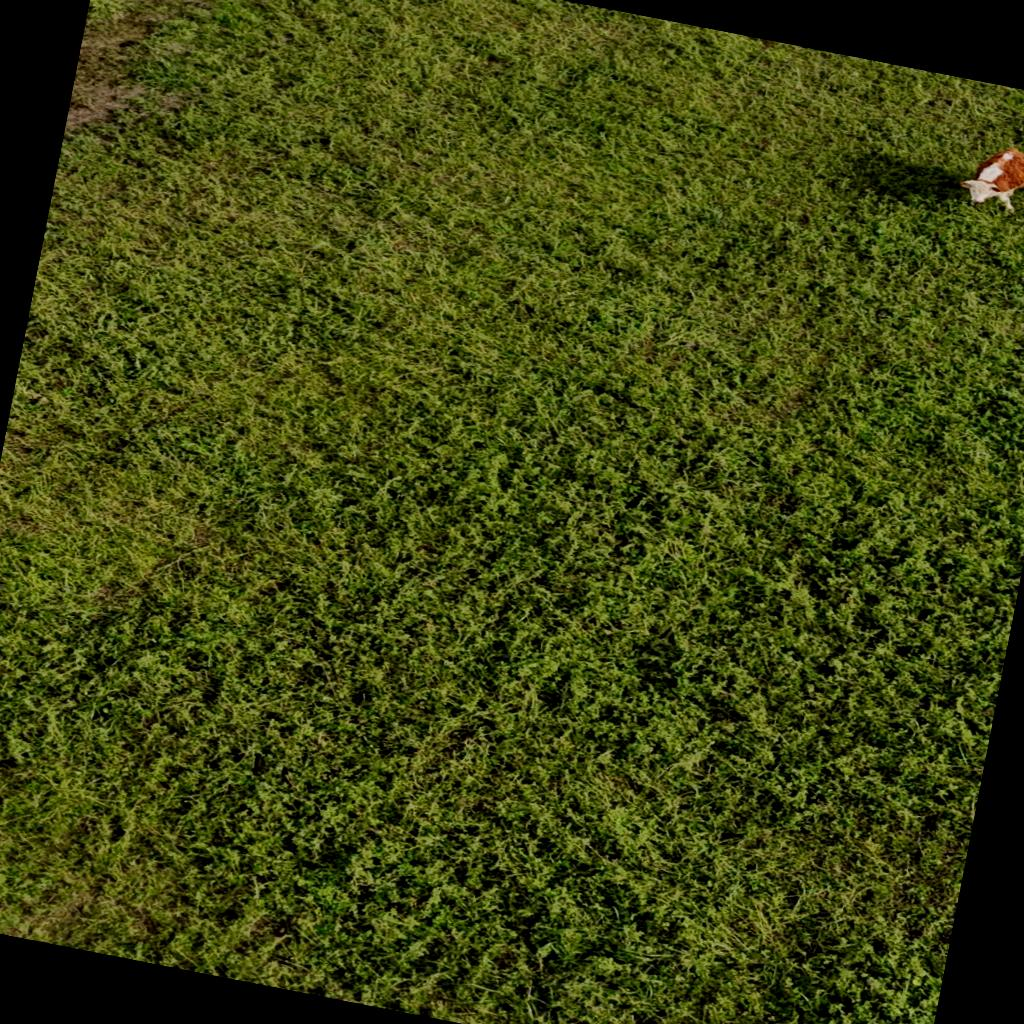cow: (950, 137, 1024, 218)
